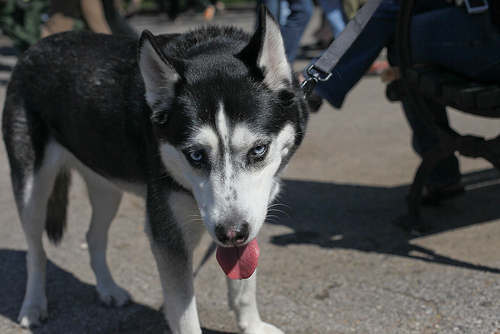dog: (1, 1, 313, 333)
